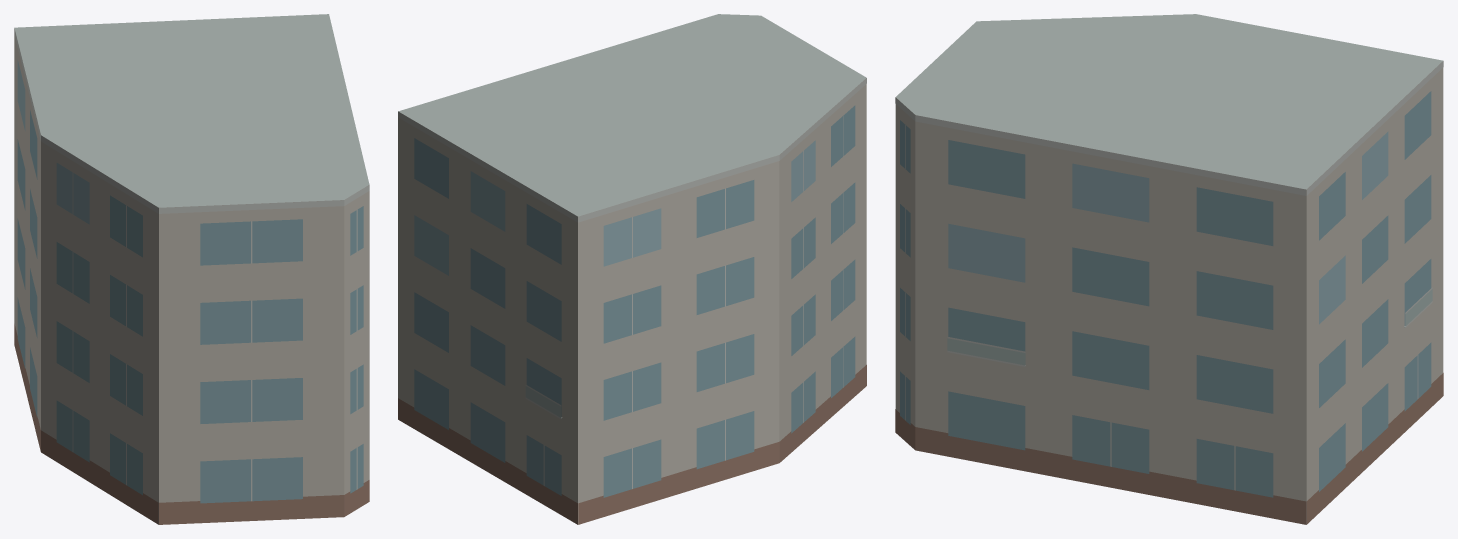
Rendered from survey-upis-32461230.glb.
3 renders of one model, left to right at view 1: azimuth 30°, elevation 25°; view 2: azimuth 150°, elevation 25°; view 3: azimuth 270°, elevation 25°, orthographic. The views are drawn at different scales.
Visible parts, largest first — view 1: survey-upis-32461230.tmp; view 2: survey-upis-32461230.tmp; view 3: survey-upis-32461230.tmp.
Part boxes in pixels (bbox=[...]): survey-upis-32461230.tmp: bbox=[14, 14, 369, 524]; survey-upis-32461230.tmp: bbox=[398, 14, 866, 524]; survey-upis-32461230.tmp: bbox=[895, 14, 1443, 524].
Bounding box in the file's own units: 14.1 × 12.55 × 18.59.
